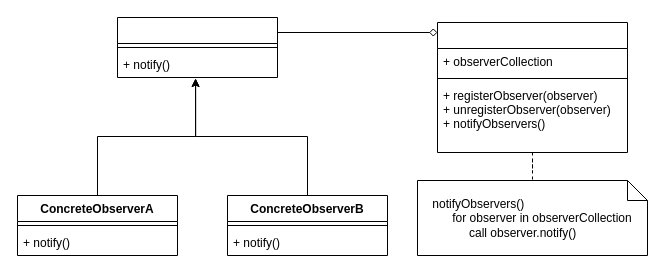
This 665x276 diagram has some shape labels left out. Here are the shapes that lost their labels. From the top down, the box of each, then its label:
(116, 16, 278, 78): Observer
(436, 22, 628, 152): Subject
